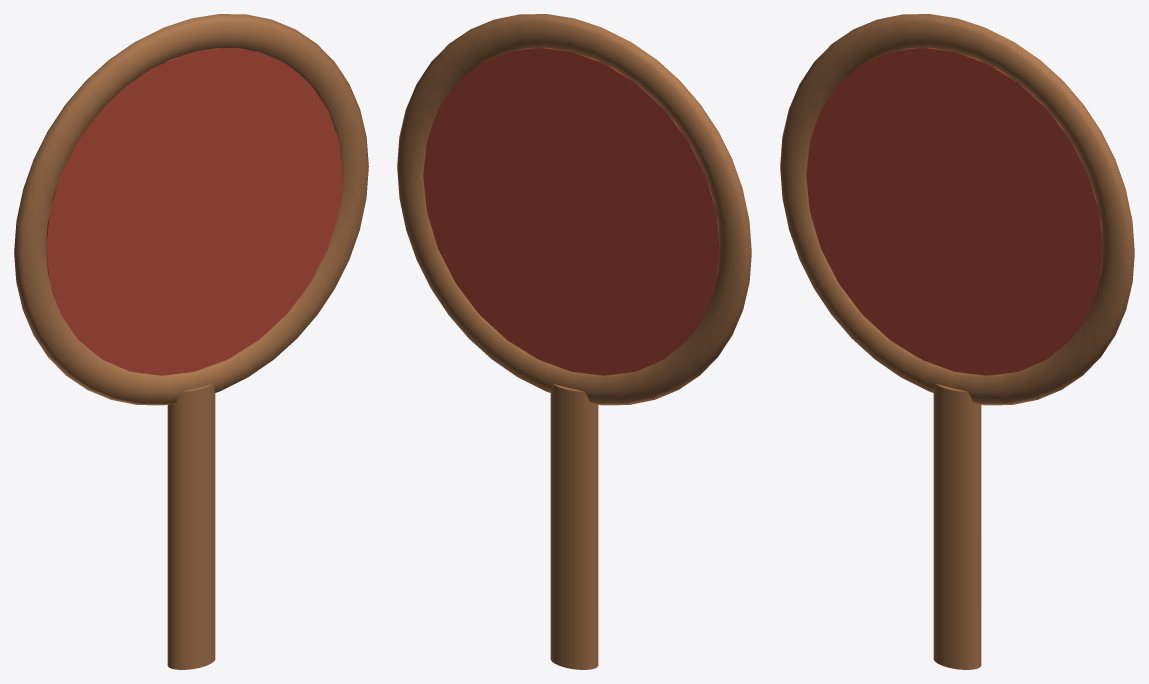
Rendered from wp-raquette-de-ping-pong.glb.
The picture shows the model from 3 angles, left to right: view 1: azimuth 30°, elevation 25°; view 2: azimuth 150°, elevation 25°; view 3: azimuth 330°, elevation 25°; orthographic projection.
Visible parts, largest first — view 1: wp-raquette-de-ping-pong; view 2: wp-raquette-de-ping-pong; view 3: wp-raquette-de-ping-pong.
Part boxes in pixels (<box>): wp-raquette-de-ping-pong: <box>14,14,368,669</box>; wp-raquette-de-ping-pong: <box>397,14,751,669</box>; wp-raquette-de-ping-pong: <box>780,14,1134,669</box>.
Bounding box in the file's own units: 0.15 × 0.26 × 0.012.
